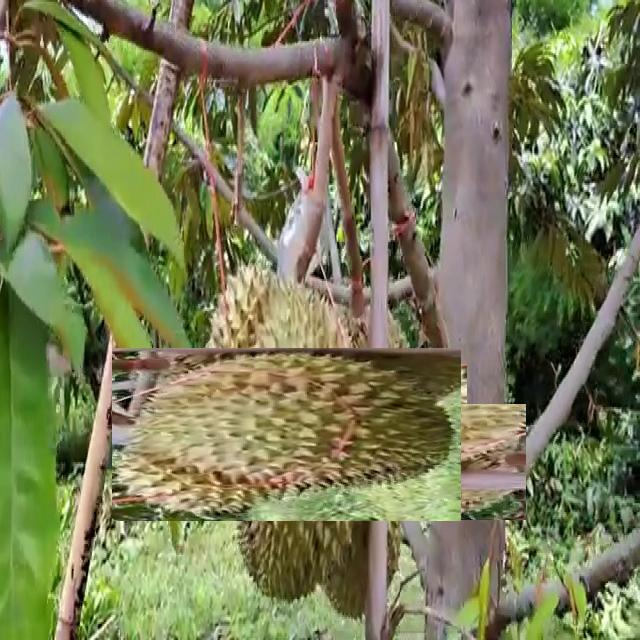durian: (156, 304, 418, 565), (175, 318, 420, 563), (248, 350, 472, 574)
